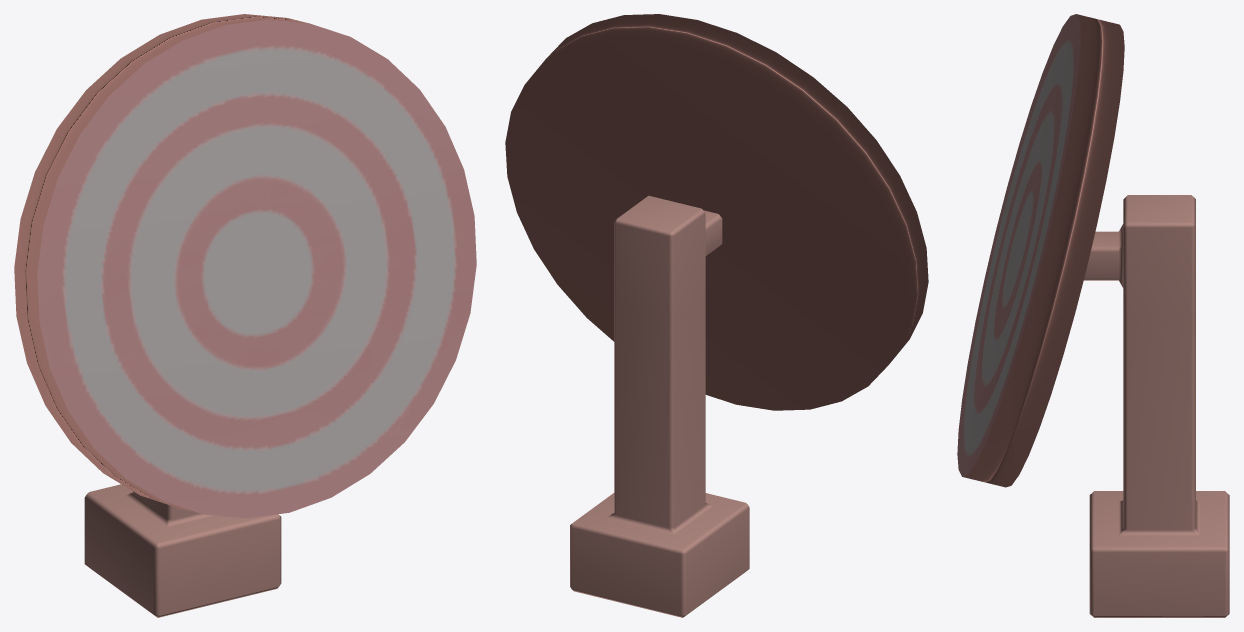
File: Closed.Wheelie.fbx
3 views of the same model, side by side, from view 1: azimuth 30°, elevation 25°; view 2: azimuth 150°, elevation 25°; view 3: azimuth 270°, elevation 25° (orthographic). The views are drawn at different scales.
Visible parts, largest first — view 1: Closed.Wheelie; view 2: Closed.Wheelie; view 3: Closed.Wheelie.
Boxes of the visible parts, x1,y1,x2,y2 form: Closed.Wheelie: [14, 14, 476, 617]; Closed.Wheelie: [505, 14, 928, 617]; Closed.Wheelie: [957, 14, 1229, 617].
Bounding box in the file's own units: 5.25 × 6.73 × 3.
